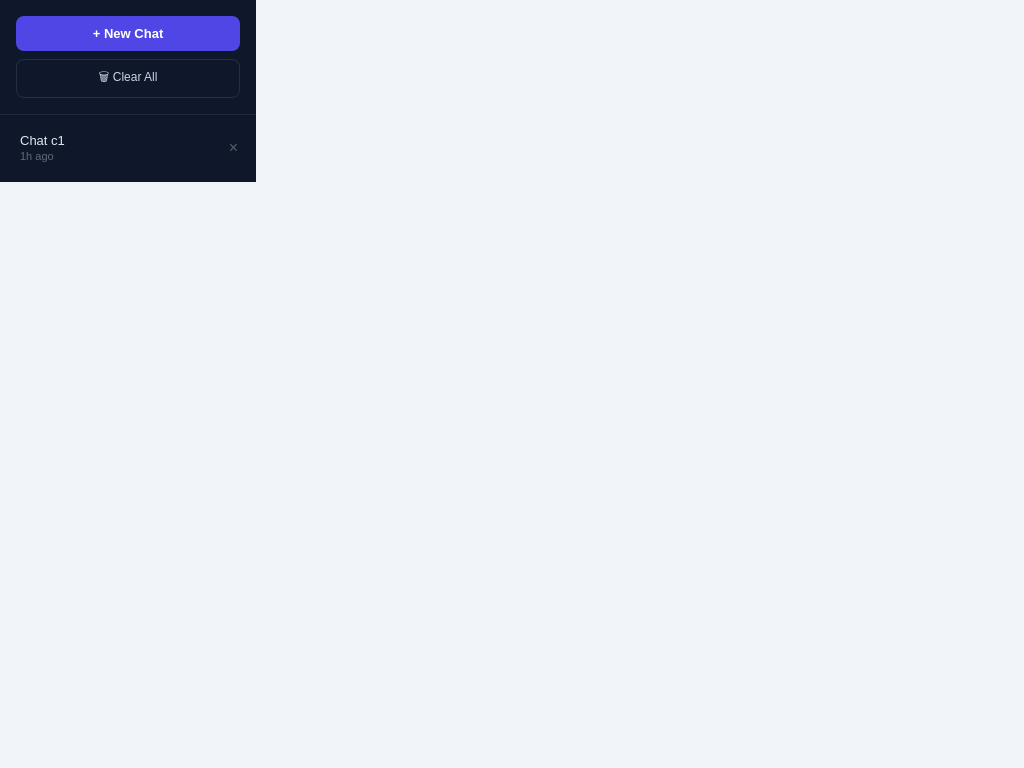
ConversationSidebar — clear all › shows confirm dialog when Clear All clicked
This screenshot has width=1024, height=768.
Click the button with test id "clear-all-btn" at [128, 78], box 16,59 -> 240,98
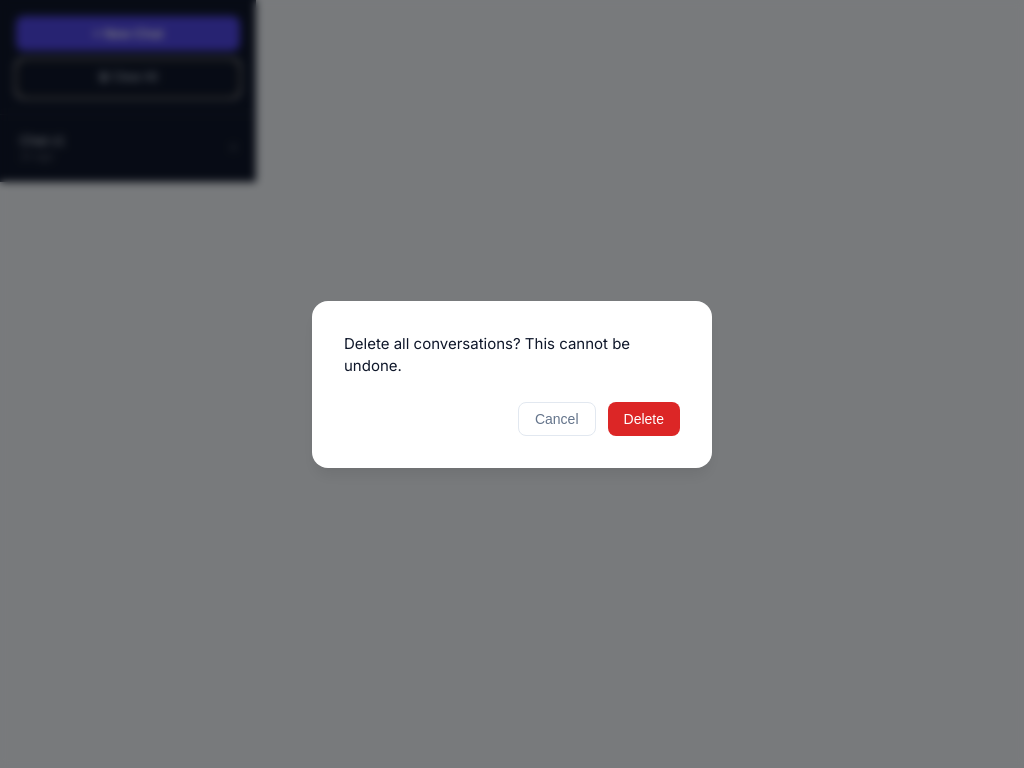
Check: the 1st dialog with test id "confirm-dialog" is shown
